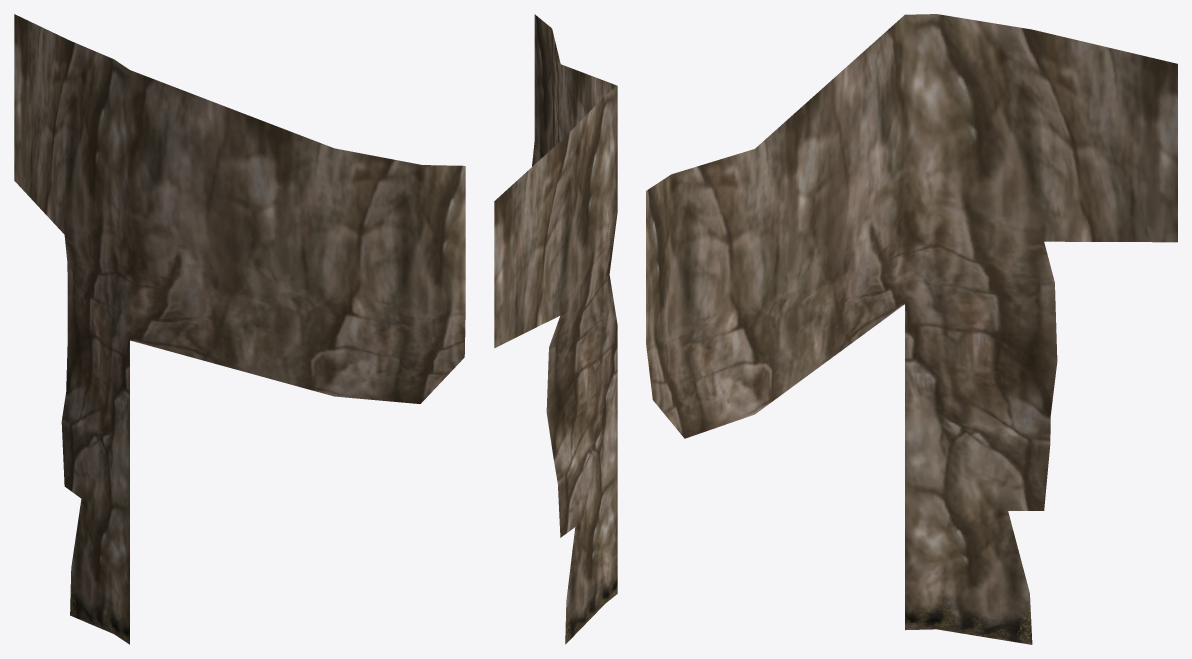
Rendered from OVERHILL_A_01_OBJECT20.fbx.
3 views of the same model, side by side, from view 1: azimuth 30°, elevation 25°; view 2: azimuth 150°, elevation 25°; view 3: azimuth 270°, elevation 25° (orthographic). The views are drawn at different scales.
Visible parts, largest first — view 1: OVERHILL_A_01_OBJECT20; view 2: OVERHILL_A_01_OBJECT20; view 3: OVERHILL_A_01_OBJECT20.
Boxes of the visible parts, x1=… form: OVERHILL_A_01_OBJECT20: x1=14, y1=14, x2=465, y2=644; OVERHILL_A_01_OBJECT20: x1=494, y1=14, x2=617, y2=644; OVERHILL_A_01_OBJECT20: x1=646, y1=14, x2=1177, y2=644.
Size of the model in its own units: 39564 by 102113 by 78037.
2 materials, 2 textured.
